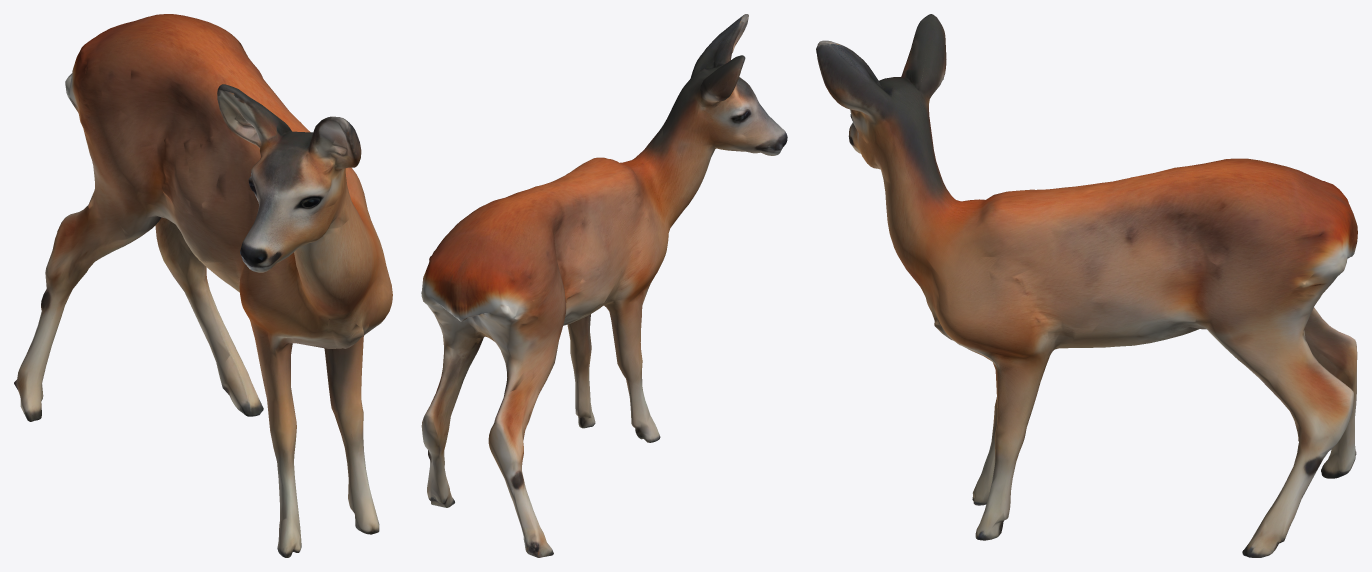
Rendered from Reh.glb.
3 renders of one model, left to right at view 1: azimuth 30°, elevation 25°; view 2: azimuth 150°, elevation 25°; view 3: azimuth 270°, elevation 25°, orthographic. The views are drawn at different scales.
Bounding box in the file's own units: 0.9035 × 1.83 × 2.
Materials: 1 (1 with a texture image).
